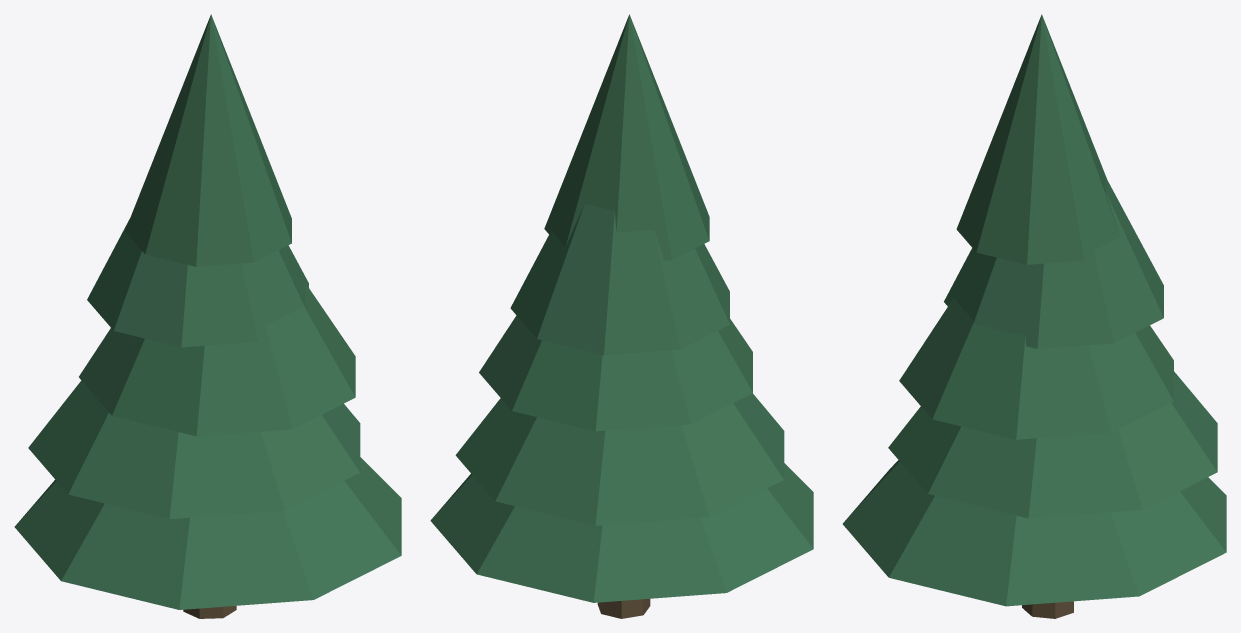
File: source.gltf
3 renders of one model, left to right at view 1: azimuth 30°, elevation 25°; view 2: azimuth 150°, elevation 25°; view 3: azimuth 270°, elevation 25°, orthographic.
Size of the model in its own units: 4.43 by 7.43 by 4.36.
